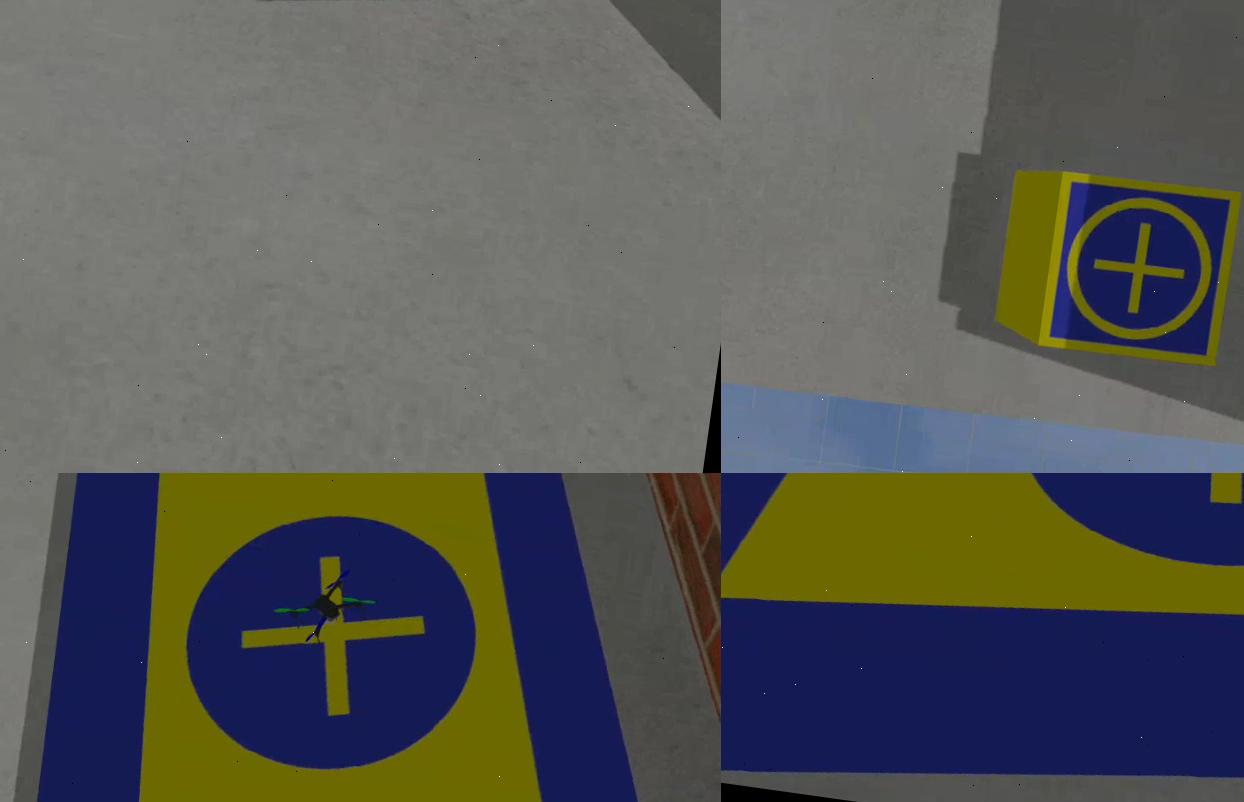large_base: (1, 474, 722, 802), (722, 474, 1244, 802)
small_base: (1035, 166, 1244, 377)
